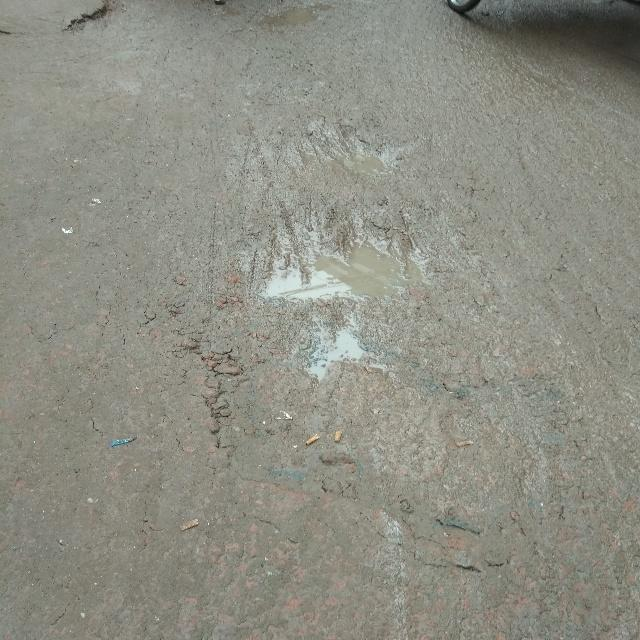Pothole: (279, 234, 397, 314), (326, 134, 386, 200)
Surface Erosion: (88, 31, 640, 632)
